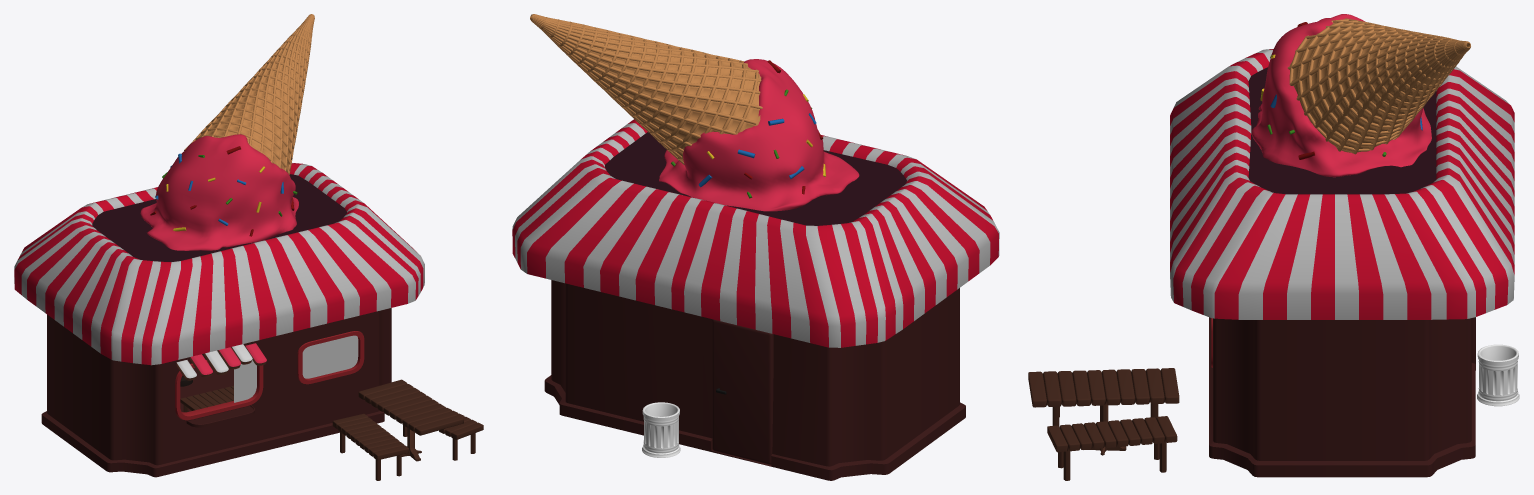
The model's file is Icecream shop.fbx.
3 renders of one model, left to right at view 1: azimuth 30°, elevation 25°; view 2: azimuth 150°, elevation 25°; view 3: azimuth 270°, elevation 25°, orthographic. The views are drawn at different scales.
Visible parts, largest first — view 1: Object005, Box021, Sphere001_Retopo001_Retopo001, Shape003, Cone002, Box035, Box033, Plane003, Object006, Plane004, Box022, Box023 (+1 smaller); view 2: Object005, Box021, Sphere001_Retopo001_Retopo001, Shape003, Object007, Cone002, Cylinder006; view 3: Object005, Box021, Shape003, Sphere001_Retopo001_Retopo001, Cone002, Box035, Box034, Cylinder006, Line008.
Boxes of the visible parts, <box> form: Object005: <box>14,163,424,365</box>; Box021: <box>41,308,391,477</box>; Sphere001_Retopo001_Retopo001: <box>140,134,298,250</box>; Shape003: <box>184,14,314,174</box>; Cone002: <box>195,14,314,171</box>; Box035: <box>358,379,463,435</box>; Box033: <box>332,413,408,460</box>; Plane003: <box>302,335,358,378</box>; Object006: <box>180,365,233,412</box>; Plane004: <box>234,360,256,402</box>; Box022: <box>180,385,233,410</box>; Box023: <box>186,405,254,427</box>; Object005: <box>512,119,999,347</box>; Box021: <box>544,280,965,480</box>; Sphere001_Retopo001_Retopo001: <box>659,59,859,211</box>; Shape003: <box>531,14,762,164</box>; Object007: <box>712,319,773,464</box>; Cone002: <box>530,14,761,161</box>; Cylinder006: <box>642,402,680,457</box>; Object005: <box>1170,49,1514,319</box>; Box021: <box>1209,317,1475,477</box>; Shape003: <box>1287,18,1470,154</box>; Sphere001_Retopo001_Retopo001: <box>1251,14,1431,177</box>; Cone002: <box>1289,22,1470,153</box>; Box035: <box>1028,368,1179,407</box>; Box034: <box>1047,416,1177,452</box>; Cylinder006: <box>1477,344,1519,406</box>; Line008: <box>1058,441,1166,480</box>.
Bounding box in the file's own units: 1819 × 1805 × 1862.
